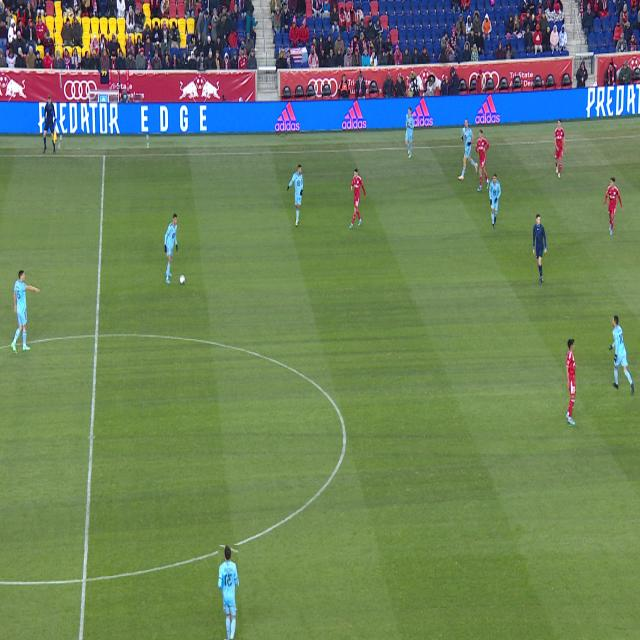football: (179, 274, 185, 285)
player: (11, 270, 40, 354), (609, 315, 634, 395), (219, 546, 238, 640), (458, 118, 478, 180), (349, 168, 367, 228), (605, 177, 623, 235), (566, 340, 578, 425), (164, 213, 178, 284), (287, 164, 303, 225), (476, 130, 489, 191), (554, 119, 566, 178), (489, 174, 501, 228), (405, 107, 414, 158)
referee: (533, 214, 547, 283)
